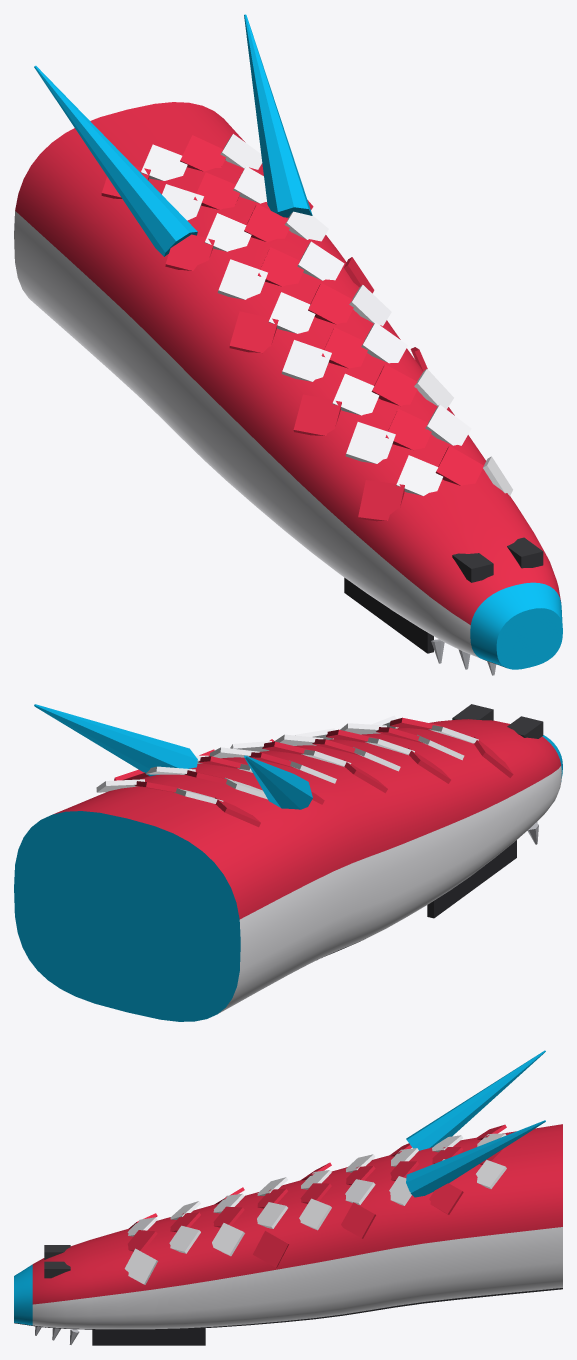
Rendered from dragon_snout.glb.
The picture shows the model from 3 angles, top to bottom: view 1: azimuth 30°, elevation 25°; view 2: azimuth 150°, elevation 25°; view 3: azimuth 270°, elevation 25°; orthographic projection. The views are drawn at different scales.
Parts seen in each view (by area): view 1: Nose_dragon_snout; view 2: Nose_dragon_snout; view 3: Nose_dragon_snout.
Boxes of the visible parts, bbox=[...] form: Nose_dragon_snout: bbox=[14, 14, 562, 675]; Nose_dragon_snout: bbox=[14, 704, 562, 1021]; Nose_dragon_snout: bbox=[14, 1050, 562, 1345].
Size of the model in its own units: 0.41 by 0.6217 by 1.26.
